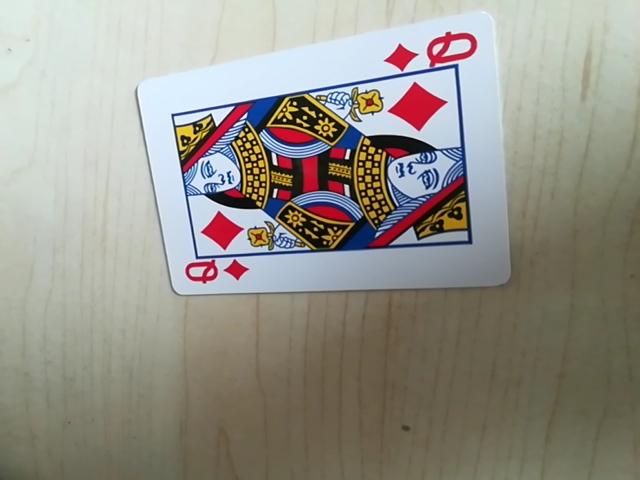fk q: (385, 26, 482, 76), (180, 253, 250, 292)
